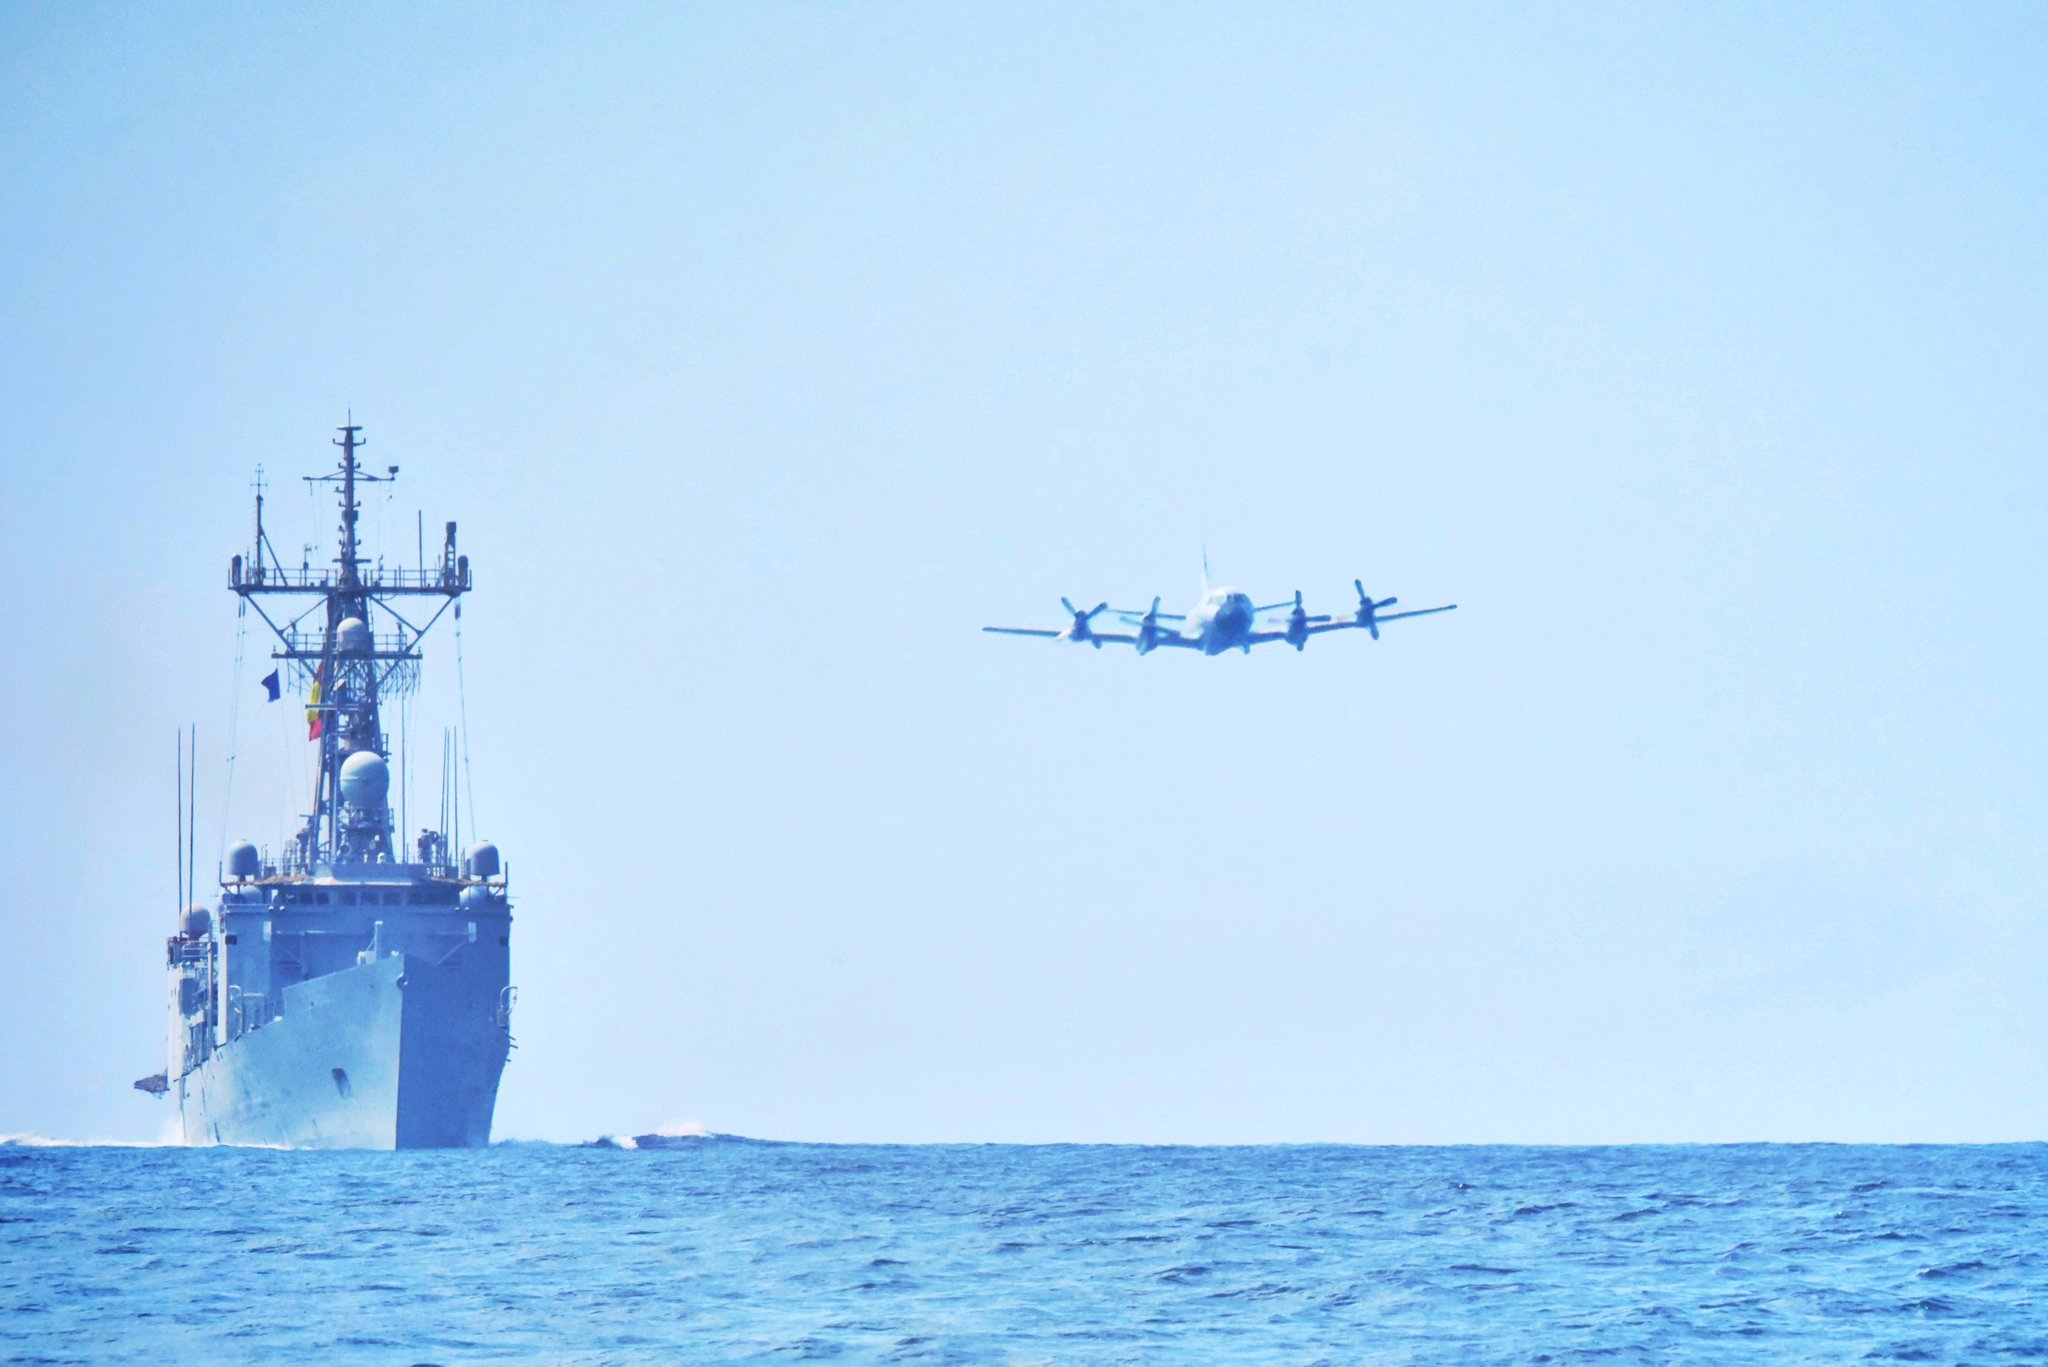airplane: (982, 542, 1458, 658)
